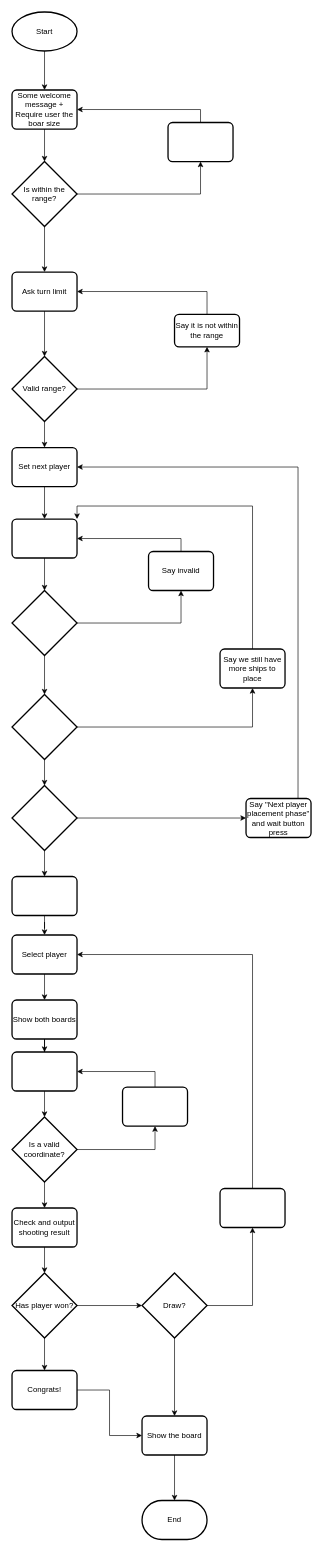
This 322x1551 diagram has some shape labels left out. The centre of each missing label's shape, as x and y in pixels:
"All players have placed?" goes at (44,818).
"Increment turn" goes at (252,1208).
"Placement completed?" goes at (44,727).
"Require placement input" goes at (44,538).
"Require shooting coordinates" goes at (44,1071).
"Say not valid" goes at (155,1106).
"Say out of range" goes at (200,142).
"Set actual_turn = 0" goes at (44,896).
"Valid input?" goes at (44,623).
